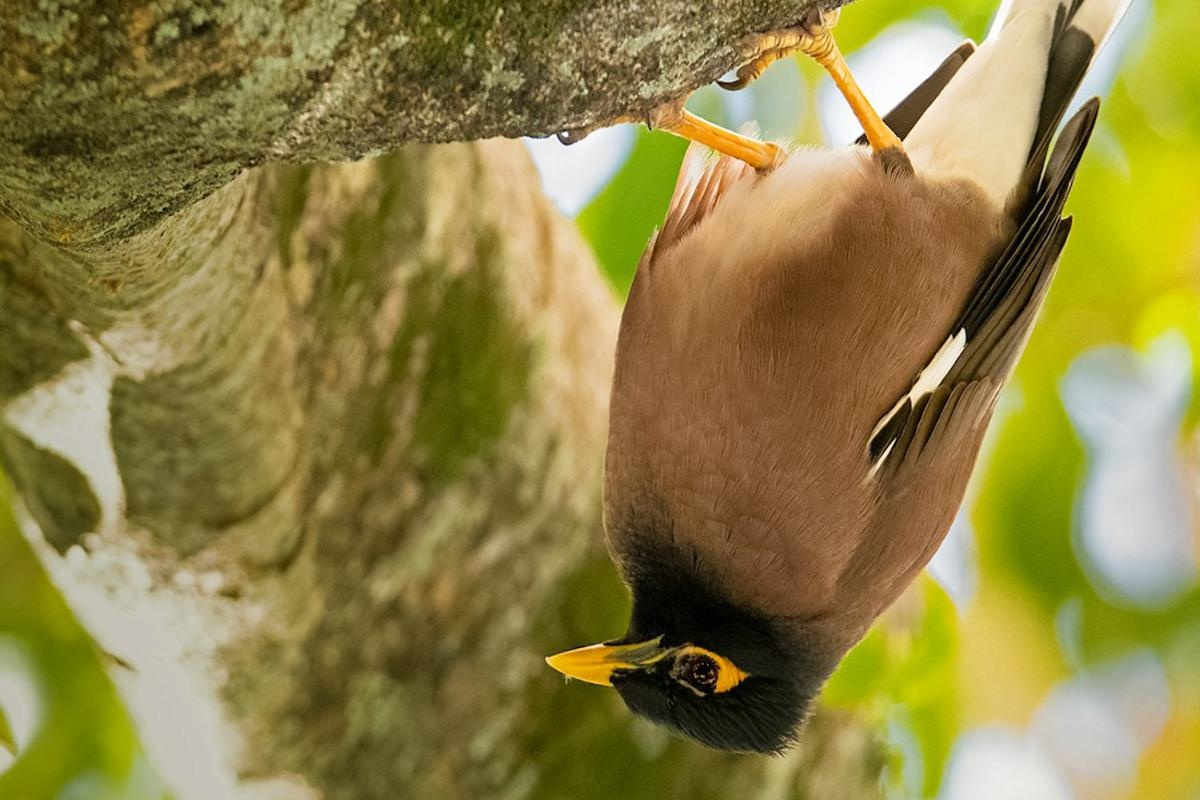myna: (517, 12, 1118, 748)
